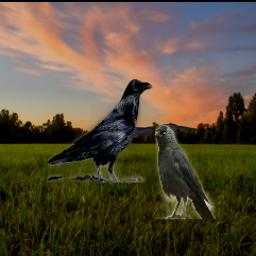Crow: (47, 79, 152, 184), (154, 126, 215, 220)
